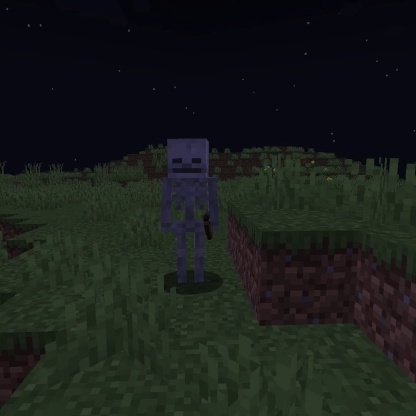skeleton: (157, 133, 221, 287)
